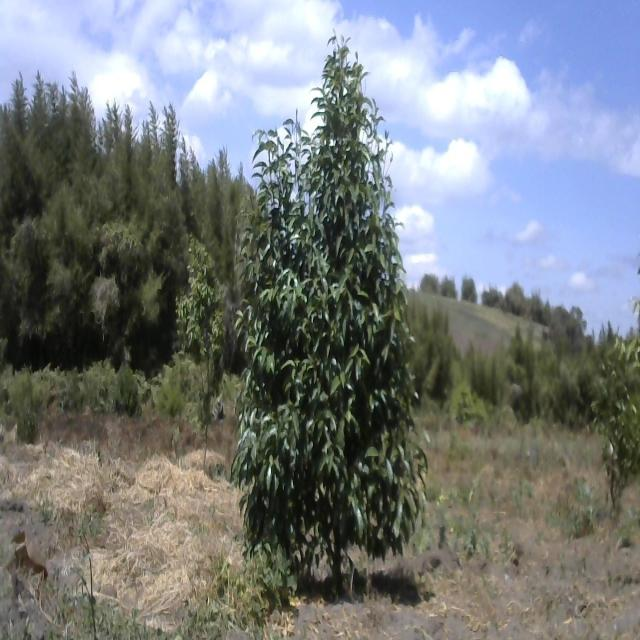Olea welwitchii: (235, 29, 429, 584), (175, 235, 227, 464)
